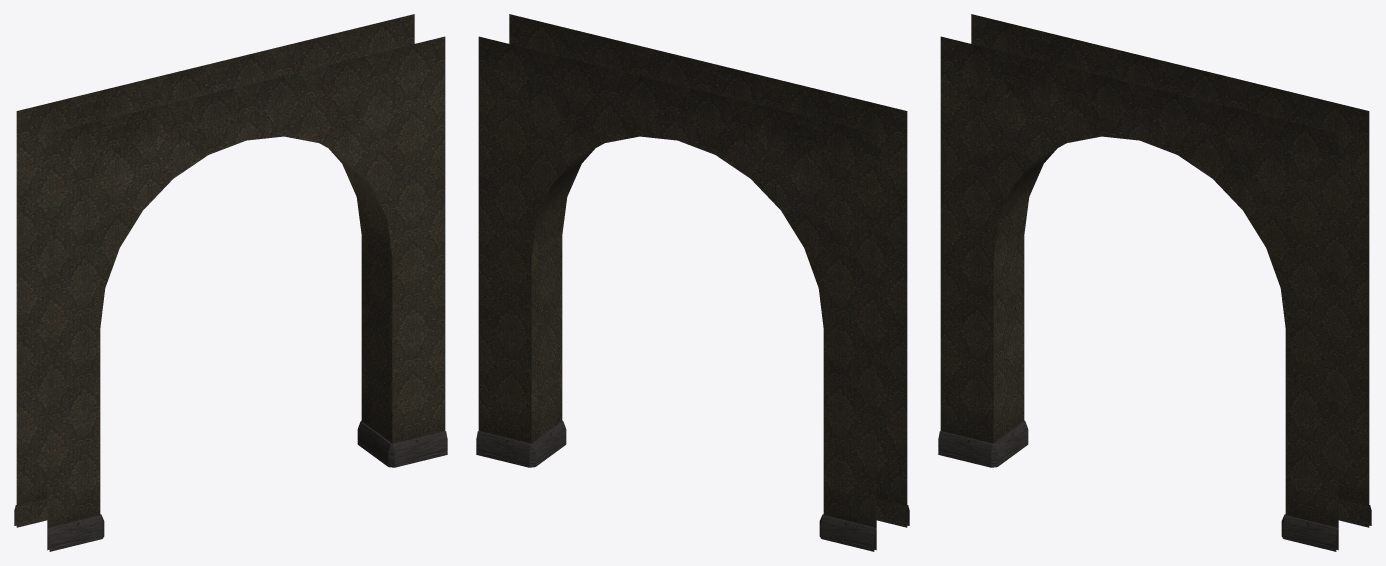
The model's file is arc_2_wall_2_2.obj.
3 renders of one model, left to right at view 1: azimuth 30°, elevation 25°; view 2: azimuth 150°, elevation 25°; view 3: azimuth 330°, elevation 25°, orthographic.
Parts seen in each view (by area): view 1: arc_2_wall_2_2; view 2: arc_2_wall_2_2; view 3: arc_2_wall_2_2.
Boxes of the visible parts, x1,y1,x2,y2 form: arc_2_wall_2_2: (14,14,447,551); arc_2_wall_2_2: (476,14,909,551); arc_2_wall_2_2: (938,14,1371,551).
Size of the model in its own units: 3 by 3 by 0.46.
